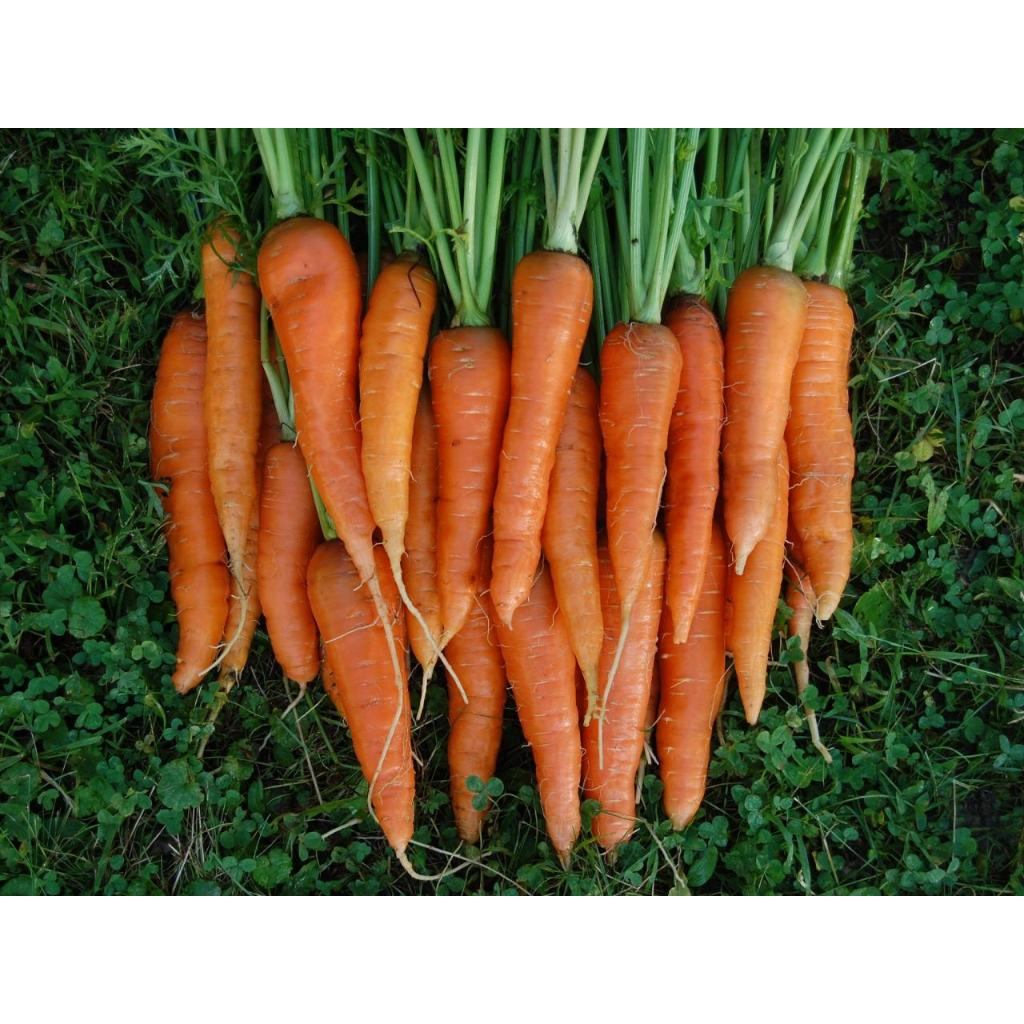carrot: (258, 218, 376, 582), (490, 250, 594, 626), (600, 322, 682, 693), (150, 310, 228, 692), (201, 218, 262, 690), (494, 564, 582, 866), (722, 266, 808, 574), (430, 326, 510, 647), (786, 282, 856, 620), (656, 522, 728, 829), (542, 368, 604, 723), (308, 542, 400, 781), (664, 294, 724, 644), (444, 538, 506, 844), (372, 628, 414, 850), (371, 407, 404, 546)
